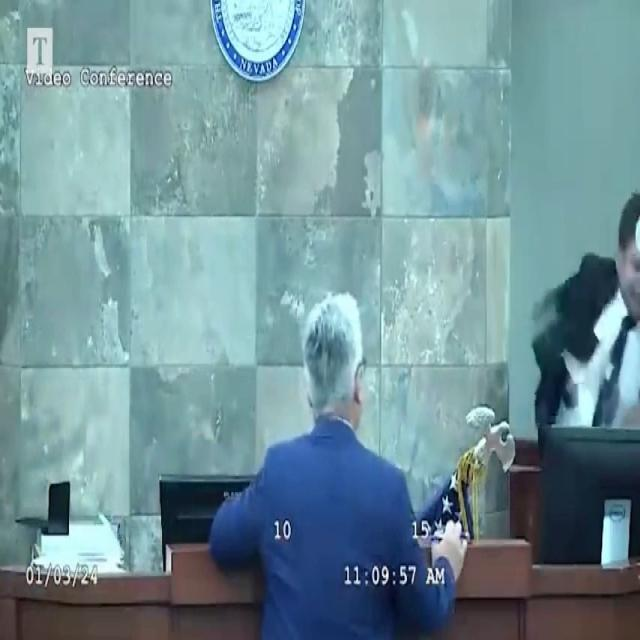fight: (532, 188, 640, 436)
non-fight: (208, 289, 467, 640)
